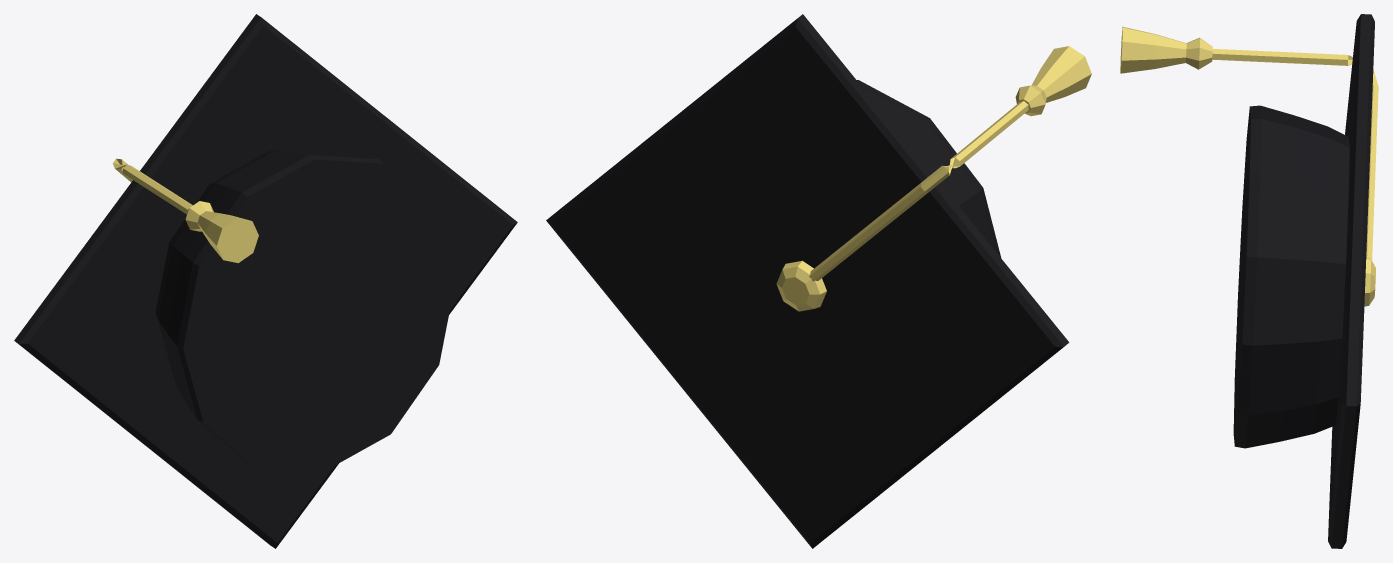
Rendered from Graduation Cap-aWELcViZ.glb.
3 views of the same model, side by side, from view 1: azimuth 30°, elevation 25°; view 2: azimuth 150°, elevation 25°; view 3: azimuth 270°, elevation 25° (orthographic). The views are drawn at different scales.
Visible parts, largest first — view 1: Graduation Cap.001; view 2: Graduation Cap.001; view 3: Graduation Cap.001.
Part boxes in pixels (box(x1,y1,x2,y2)): Graduation Cap.001: box(14, 14, 517, 548); Graduation Cap.001: box(546, 14, 1091, 548); Graduation Cap.001: box(1120, 14, 1378, 548).
Bounding box in the file's own units: 0.448 × 0.4478 × 0.196.
